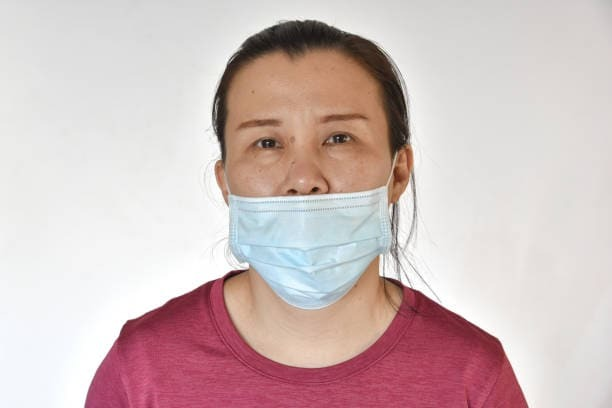with_incorrect_mask: (223, 80, 390, 301)
